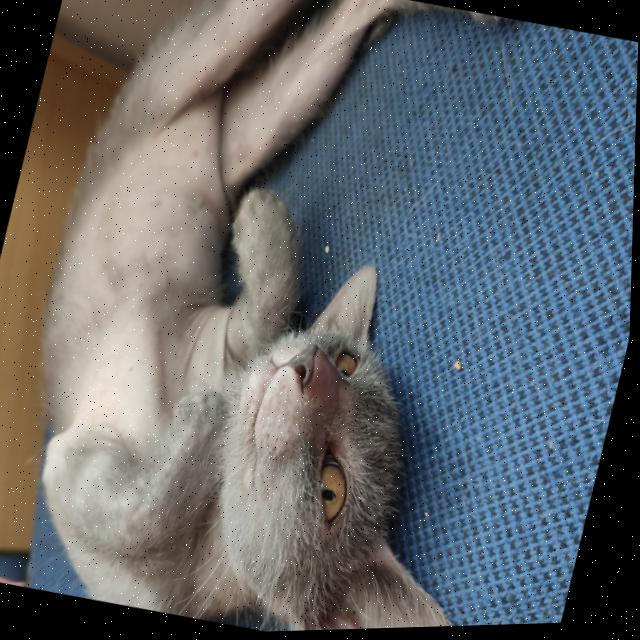Lykoi: (0, 0, 602, 640)
